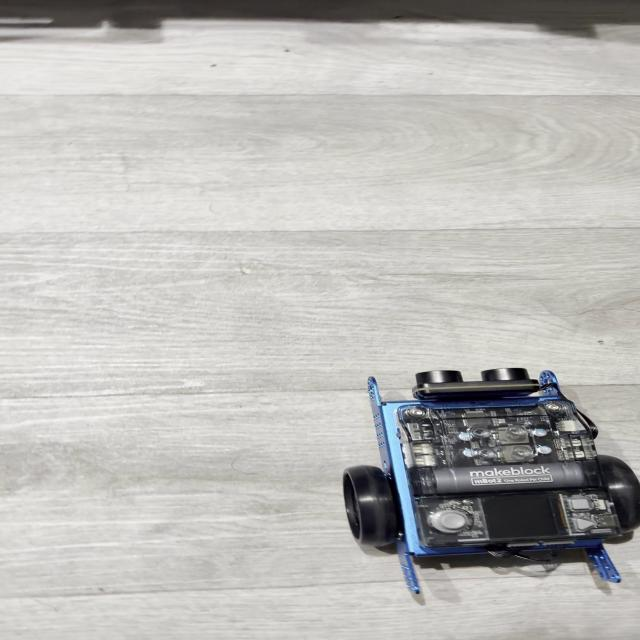mbot-detection: (326, 358, 640, 616)
